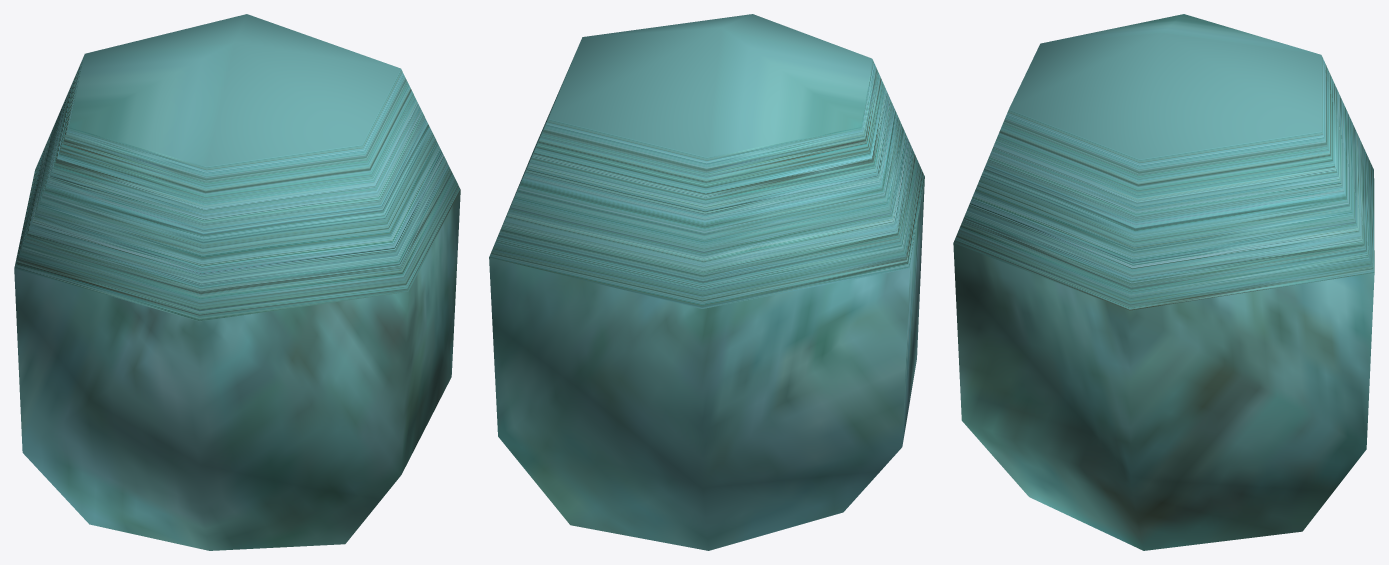
Rendered from EKH_GROTTO_PS_GR_ROCK1102929.fbx.
3 views of the same model, side by side, from view 1: azimuth 30°, elevation 25°; view 2: azimuth 150°, elevation 25°; view 3: azimuth 270°, elevation 25° (orthographic). The views are drawn at different scales.
Parts seen in each view (by area): view 1: EKH_GROTTO_PS_GR_ROCK1102929; view 2: EKH_GROTTO_PS_GR_ROCK1102929; view 3: EKH_GROTTO_PS_GR_ROCK1102929.
Part boxes in pixels (x1,y1,x2,y2): EKH_GROTTO_PS_GR_ROCK1102929: (14, 14, 460, 550); EKH_GROTTO_PS_GR_ROCK1102929: (489, 14, 924, 550); EKH_GROTTO_PS_GR_ROCK1102929: (953, 14, 1374, 550).
Size of the model in its own units: 13768 by 15100 by 12538.
Materials: 1 (1 with a texture image).
